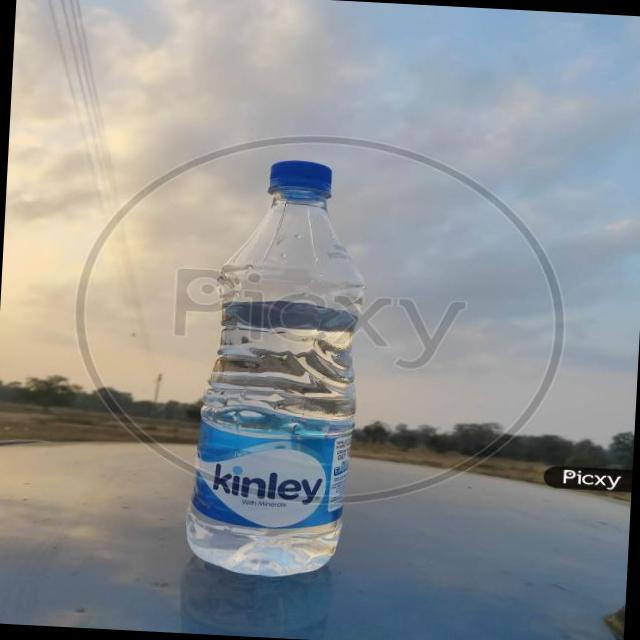plastic_bottle: (184, 155, 373, 582)
